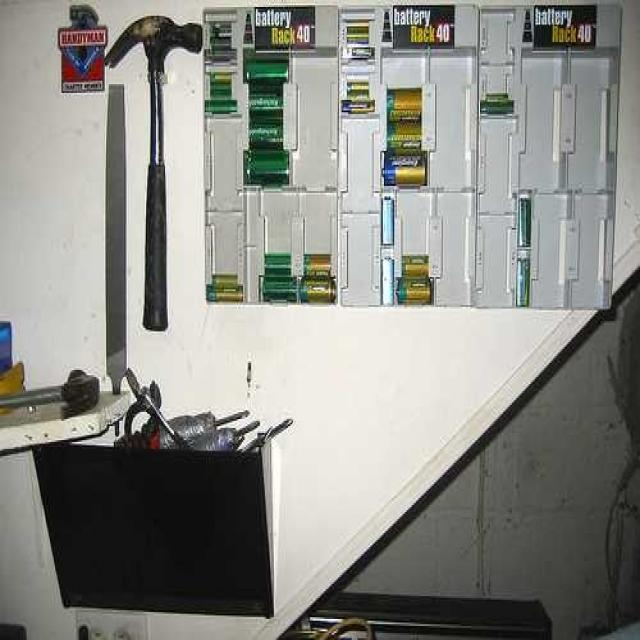hammer: (104, 16, 201, 332)
